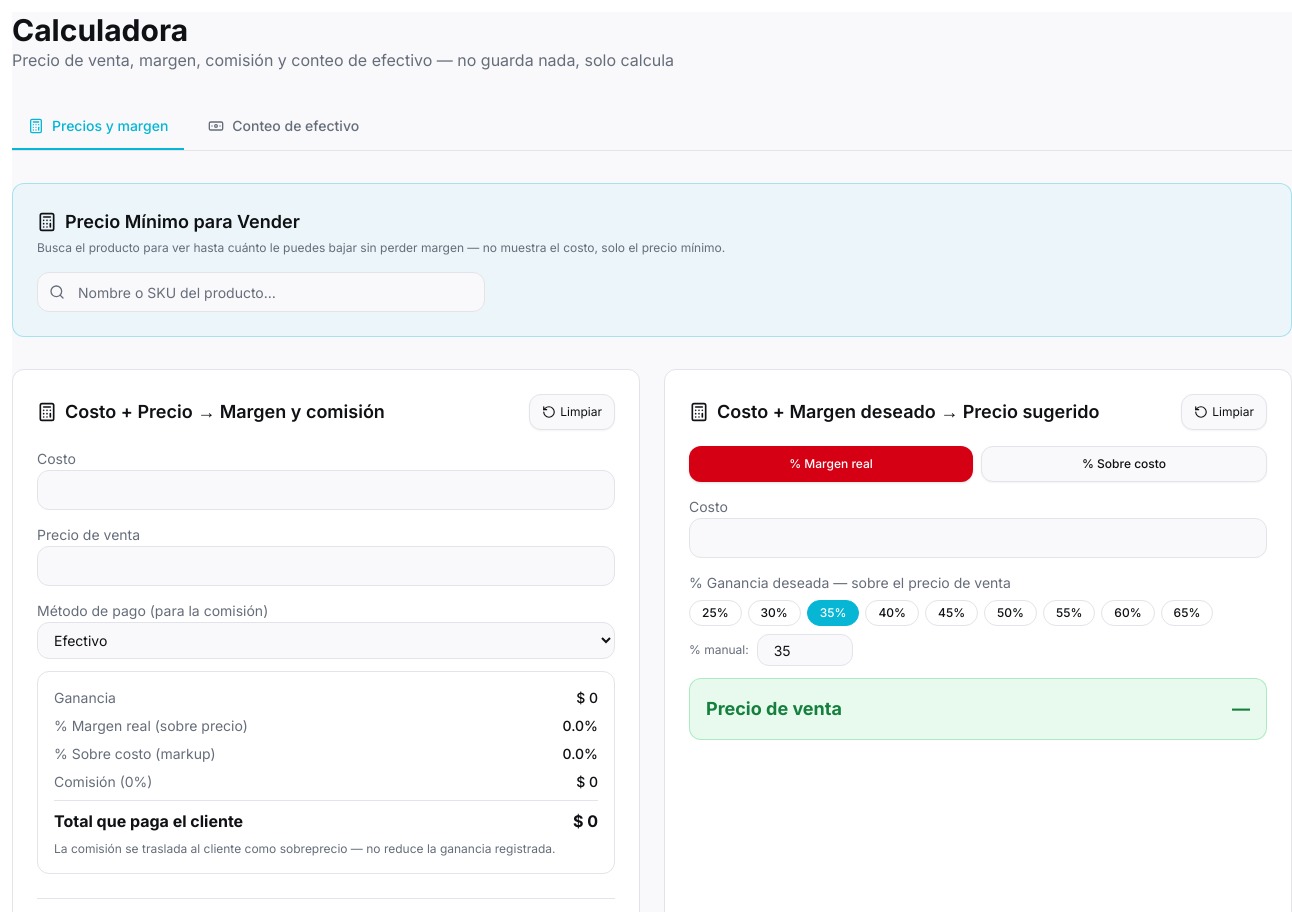
Test case: Calculadora — Costo + Margen deseado → Precio sugerido › modo "margen real": Precio = Costo / (1 - %margen/100)
The width and height of the screenshot is (1292, 912).
Step 1. Type "100000" into the 2nd field → (326, 490), box left=37, top=470, right=615, bottom=510
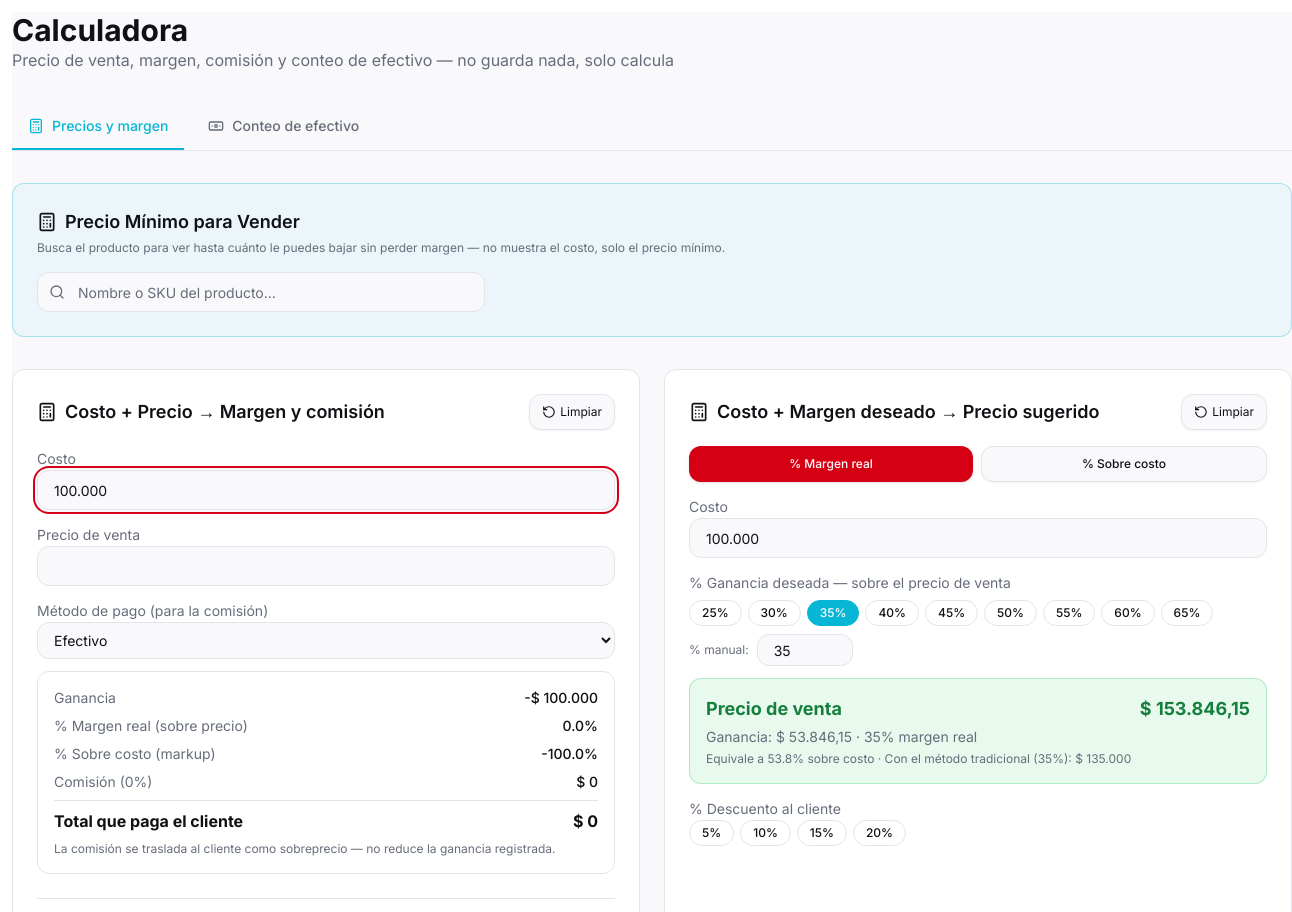
Step 2. Click the button "50%" → (1010, 613), box left=984, top=600, right=1037, bottom=626
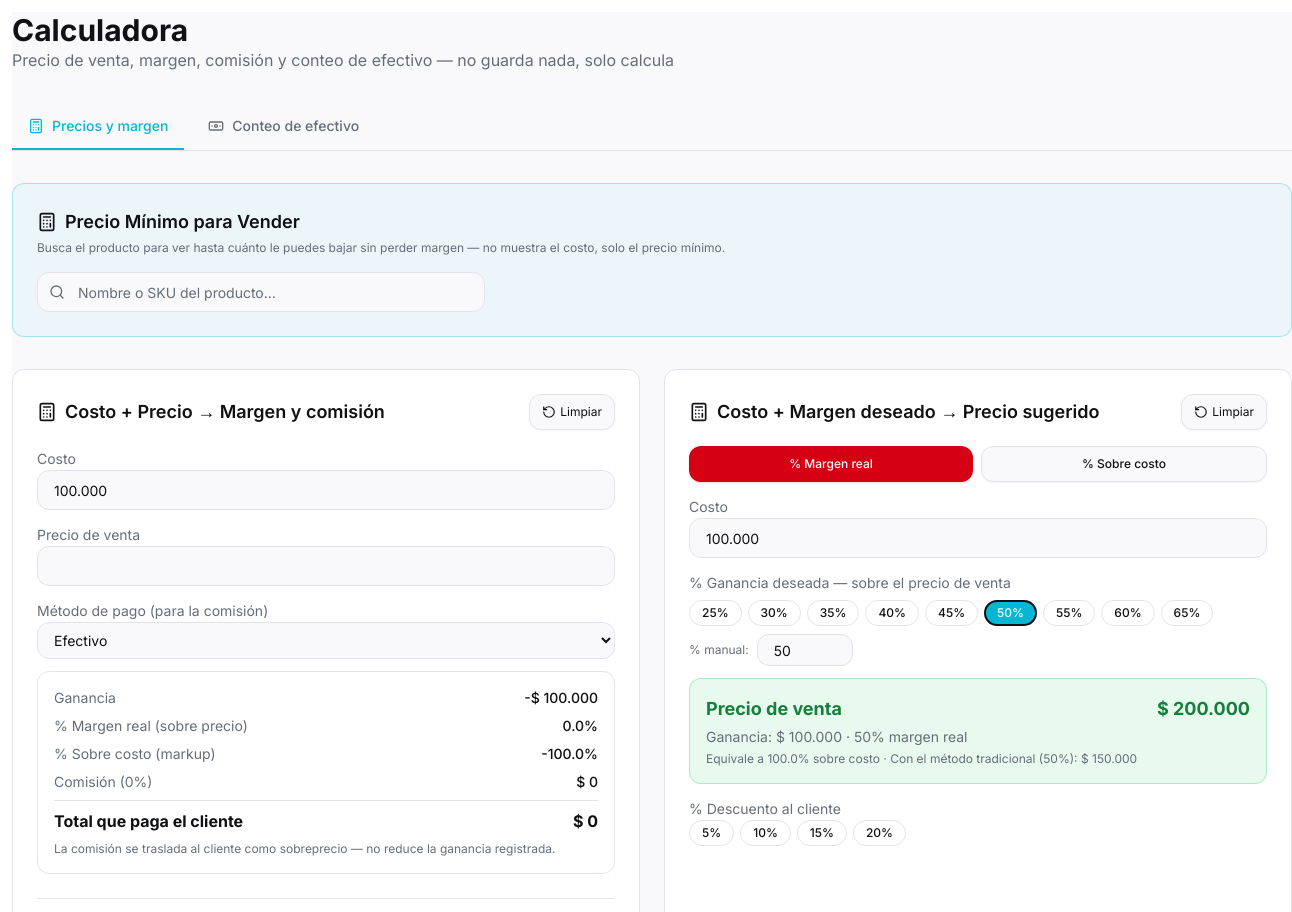
Check: the text "$ 200.000" is shown, box left=1157, top=695, right=1250, bottom=723
